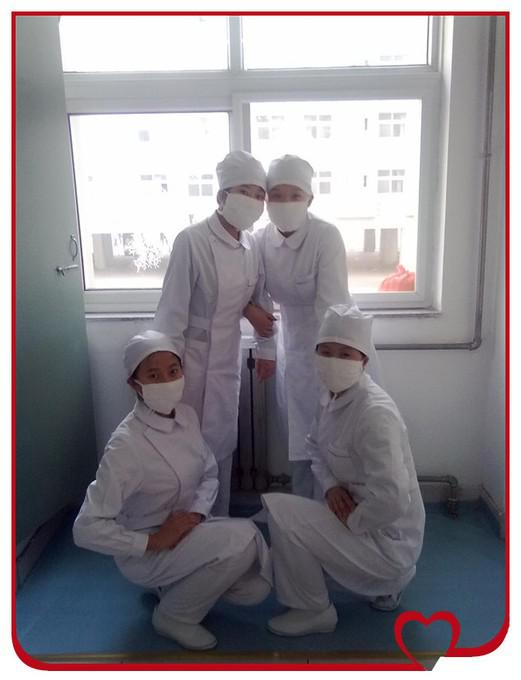OK: (139, 360, 186, 413), (320, 344, 367, 391), (268, 192, 311, 235), (224, 182, 265, 223)
